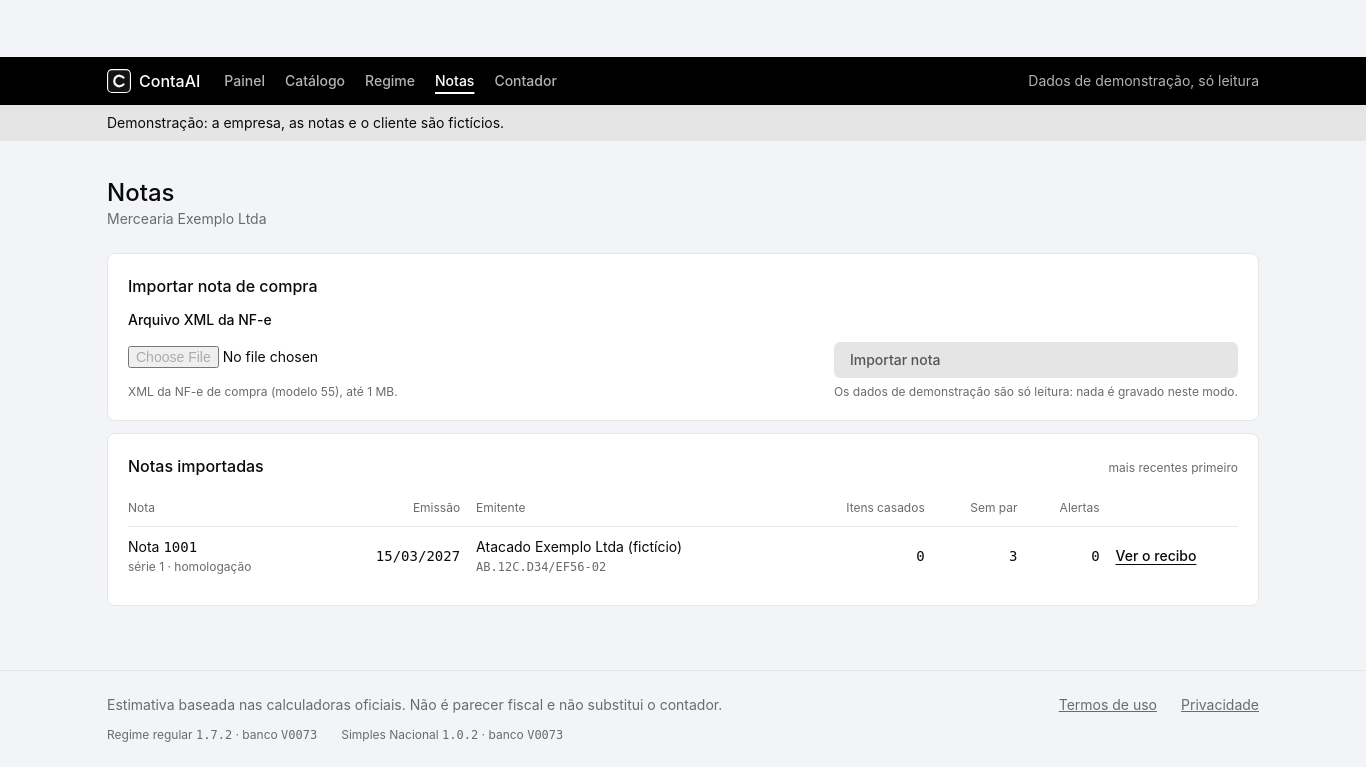
Test: "Cadastrar este item" na tela de Notas › no modo mock, o botão da linha fica desligado e diz por quê
(page scrolled)
Click the button with aria-label "Ver o recibo da nota 1001": (1156, 556) [1116,546,1196,566]
(page scrolled)
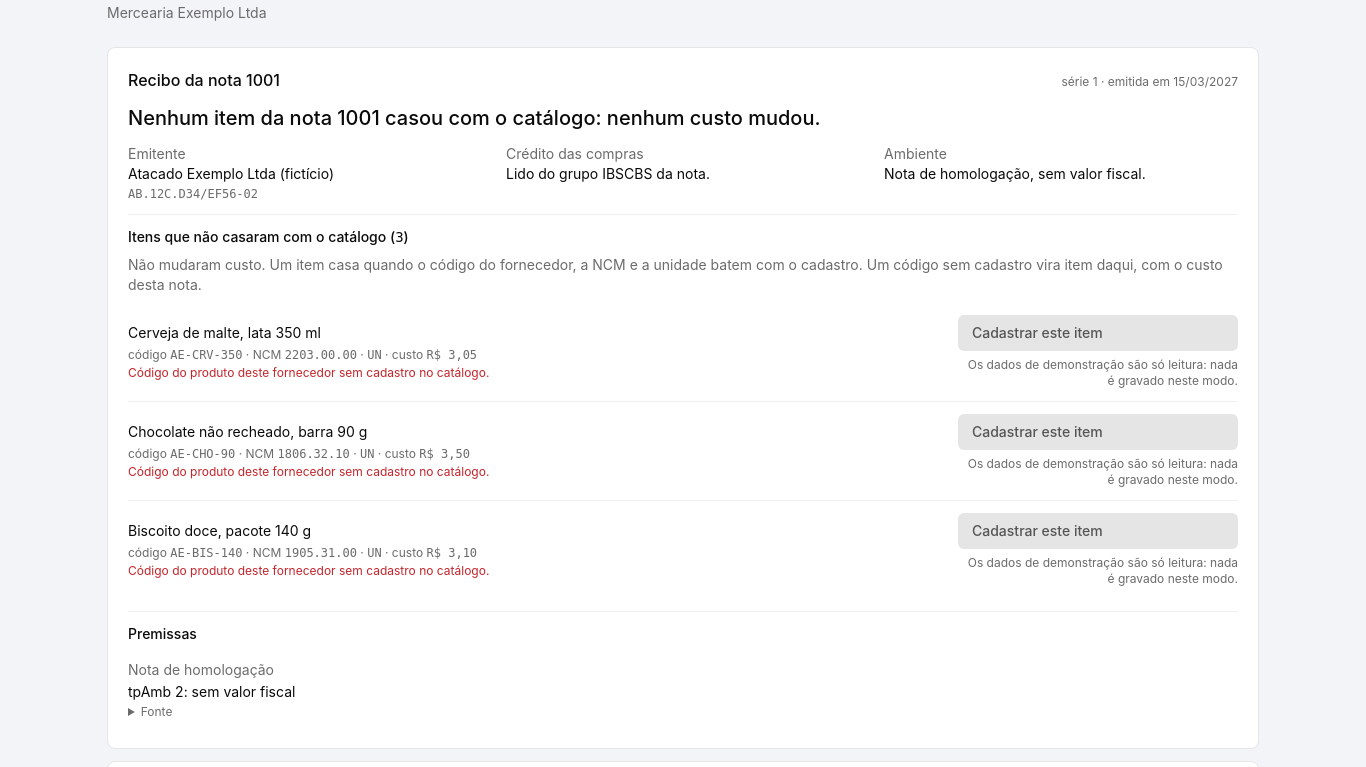
Expected: the heading "Recibo da nota 1001" is shown, [128,68,280,92]
Expected: the button "Cadastrar este item" in the row of "Cerveja de malte, lata 350 ml" is disabled, [958,315,1238,351]
Expected: the text "só leitura" in the row of "AE-CRV-350" is shown, [968,357,1238,388]
